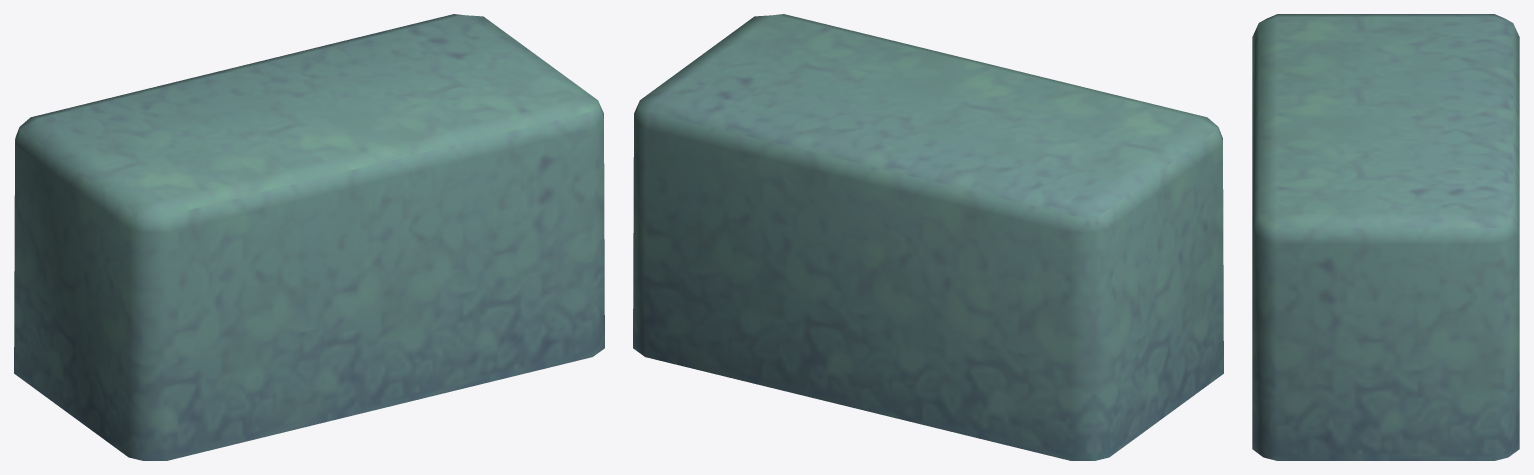
Rendered from pref_sm_city_parterre08_snow_lv3.fbx.
3 renders of one model, left to right at view 1: azimuth 30°, elevation 25°; view 2: azimuth 150°, elevation 25°; view 3: azimuth 270°, elevation 25°, orthographic. The views are drawn at different scales.
Visible parts, largest first — view 1: sm_city_parterre08_snow_lv3; view 2: sm_city_parterre08_snow_lv3; view 3: sm_city_parterre08_snow_lv3.
Part boxes in pixels (x1,y1,x2,y2): sm_city_parterre08_snow_lv3: (14, 14, 604, 460); sm_city_parterre08_snow_lv3: (633, 14, 1223, 460); sm_city_parterre08_snow_lv3: (1252, 14, 1519, 460).
Size of the model in its own units: 2.6 by 1.3 by 1.33.
